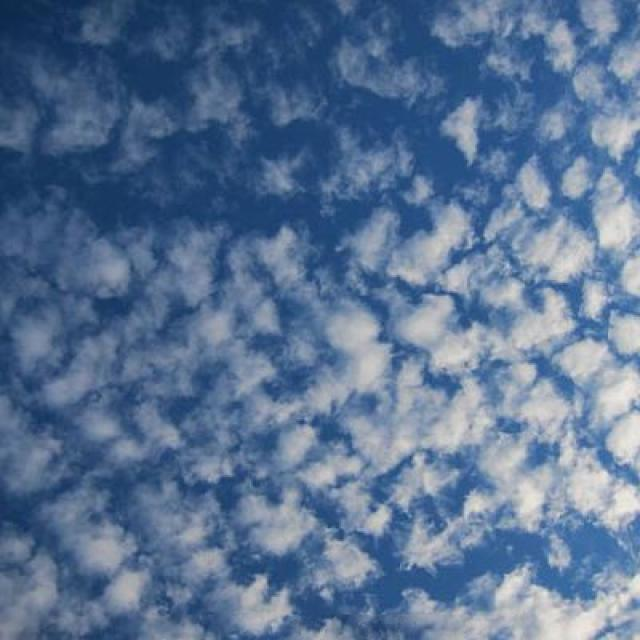Cc: (4, 137, 640, 542)
